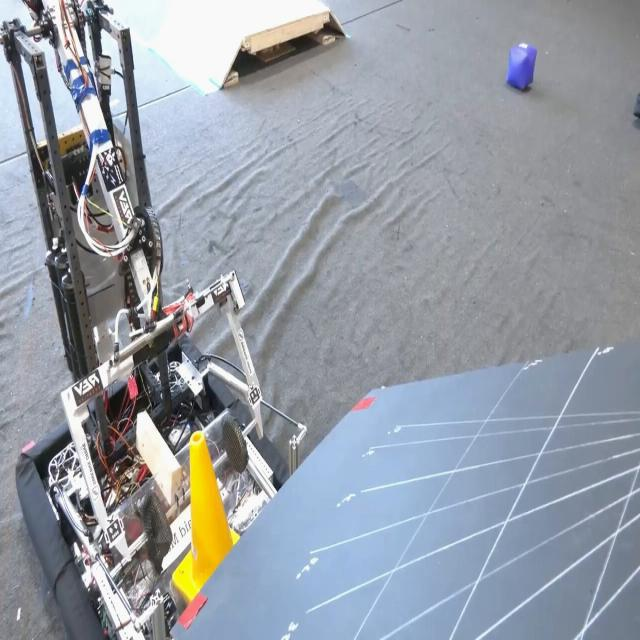frc_cone: (174, 419, 247, 607)
frc_cube: (503, 44, 538, 94)
